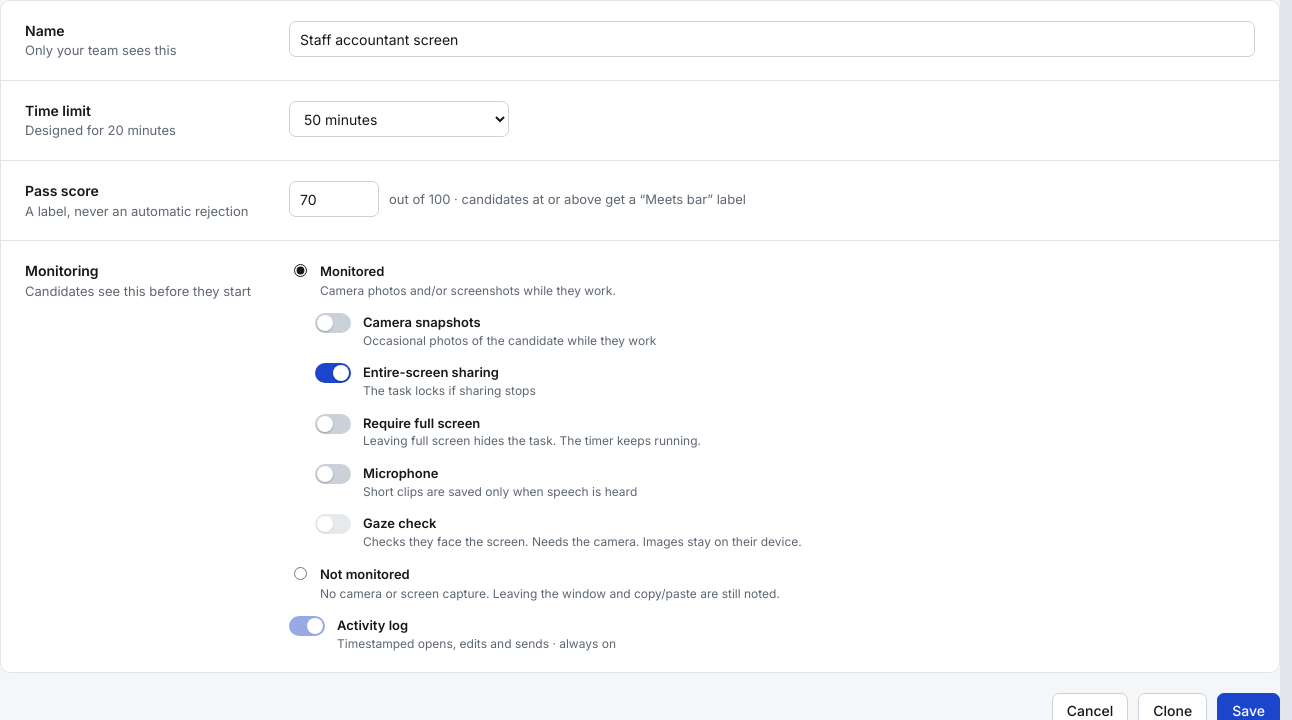
Test: ConfigureAssessmentForm: an existing assessment › saves the changed settings for this assessment
Later steps or results of the test are not shown.
Replace the text in the field named "Assessment name" with "Senior screen" at (772,39), box [289, 21, 1255, 57]
(page scrolled)
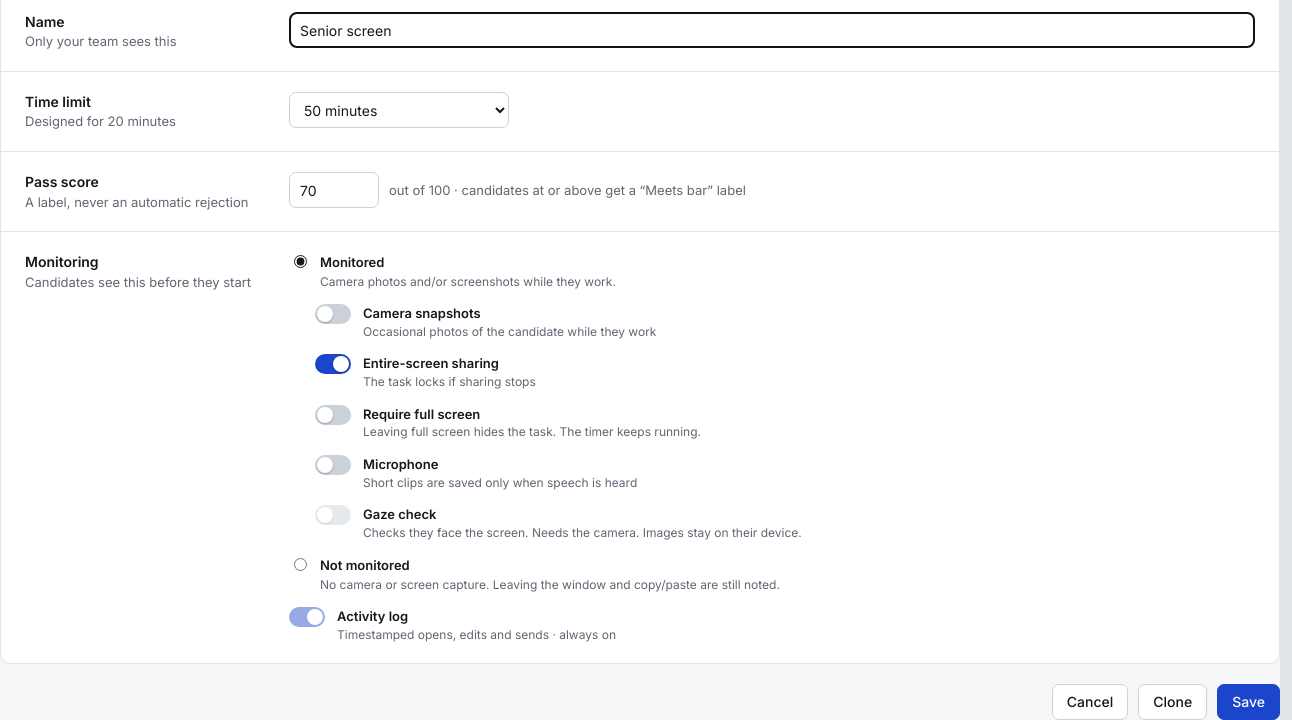
Click the button "Save".
click(1249, 702)  # box [1217, 684, 1280, 719]
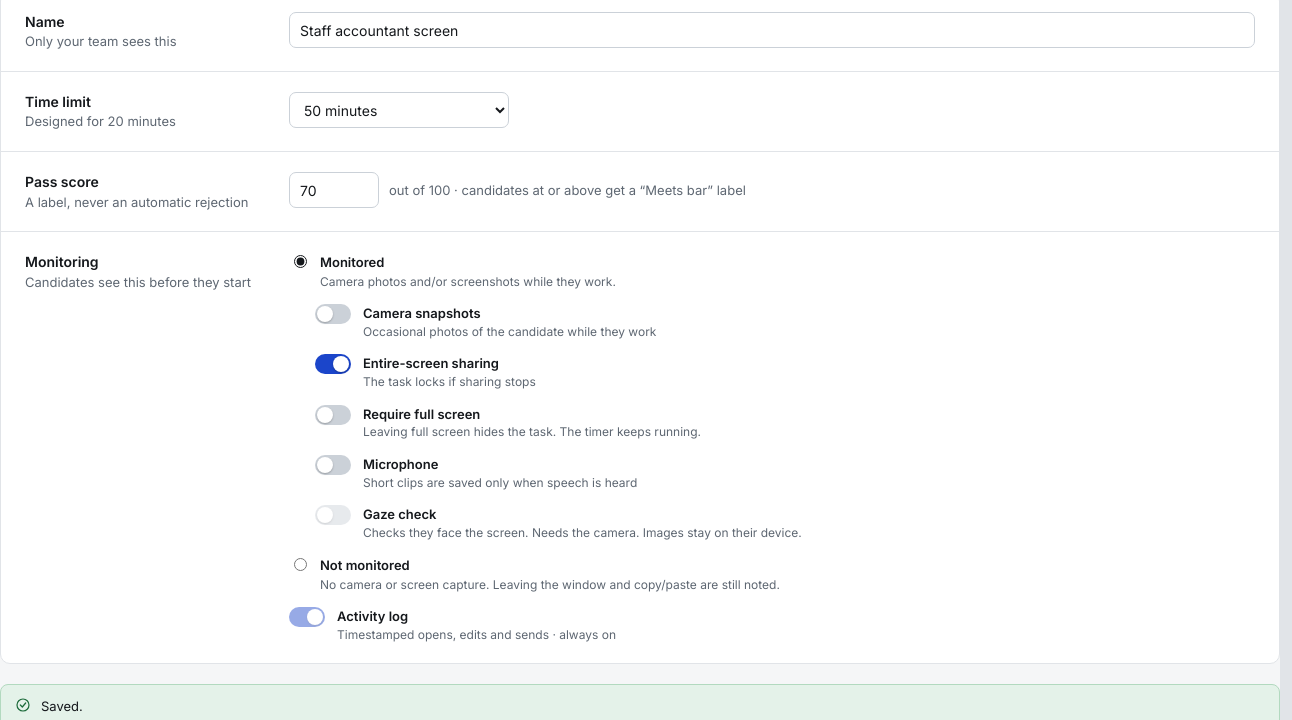
Expected: the text "Saved." is shown, [41, 697, 83, 716]
